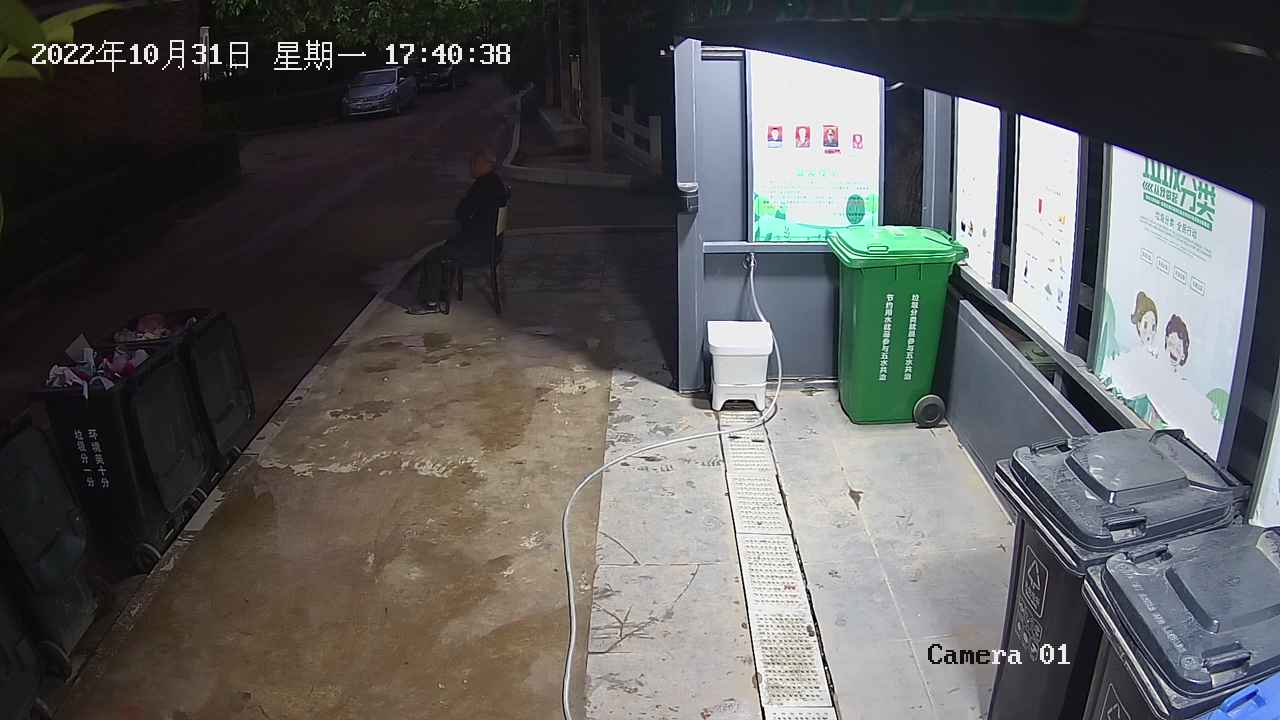person: (406, 147, 512, 316)
